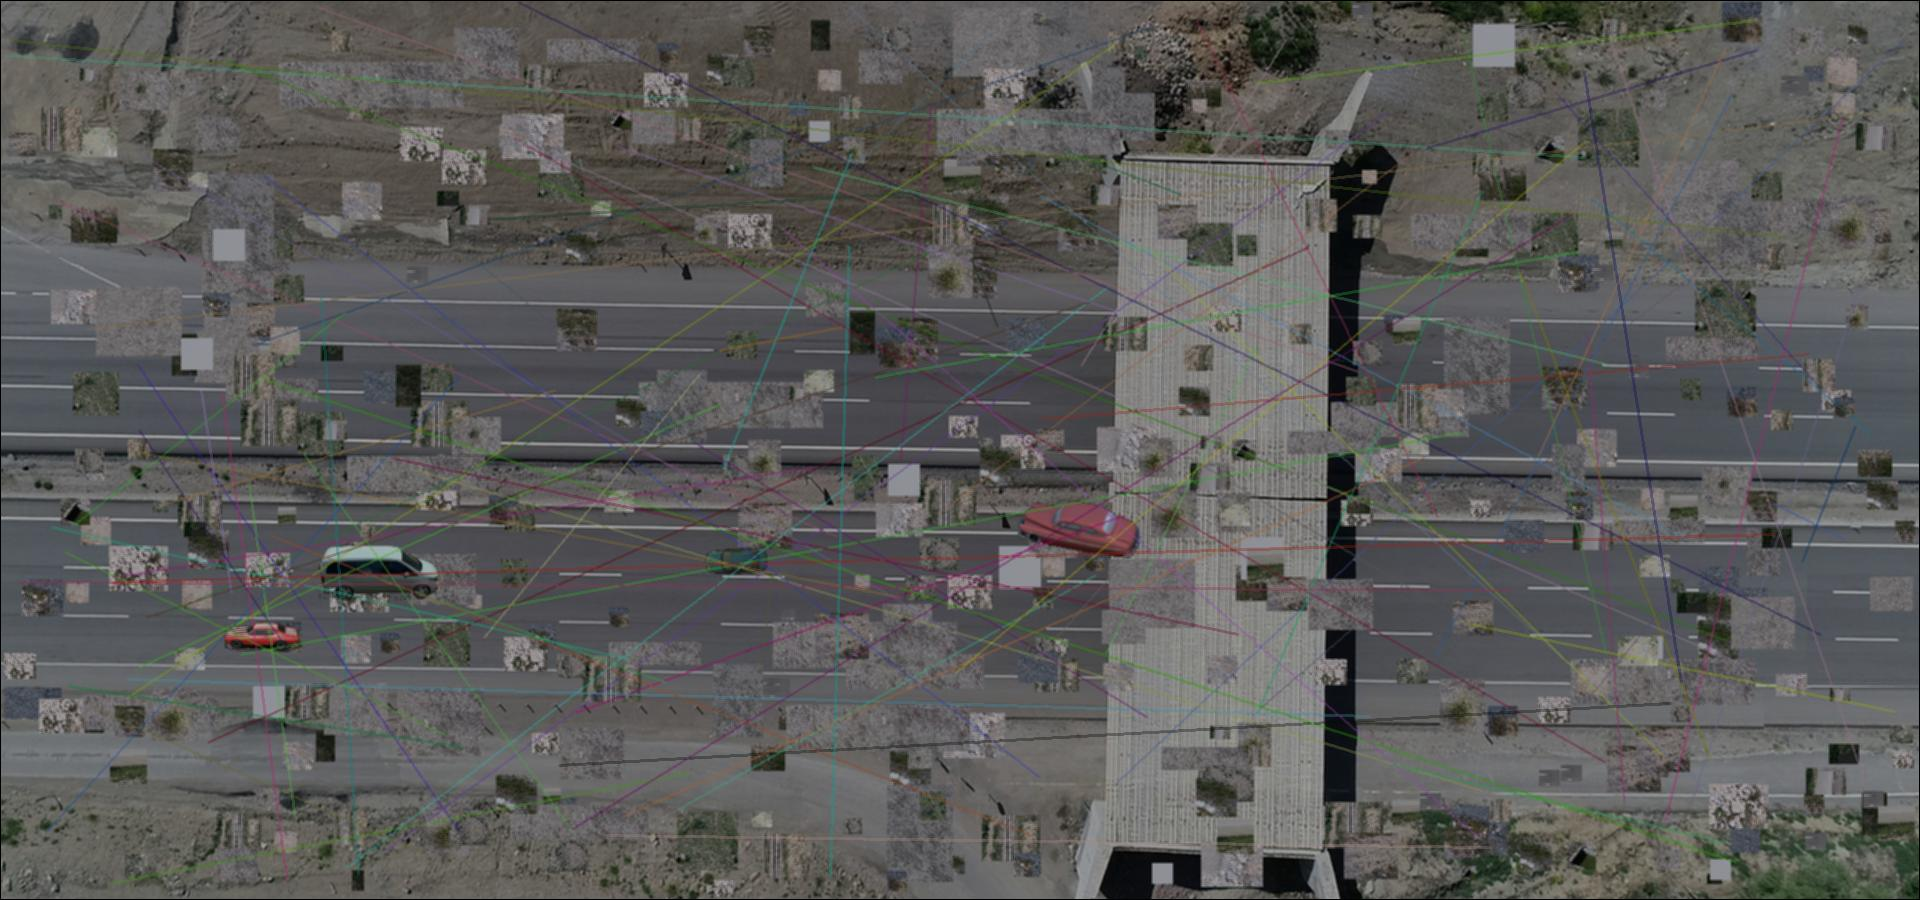arac: (1018, 500, 1141, 560), (318, 546, 442, 600), (220, 620, 301, 651), (704, 547, 769, 576)
